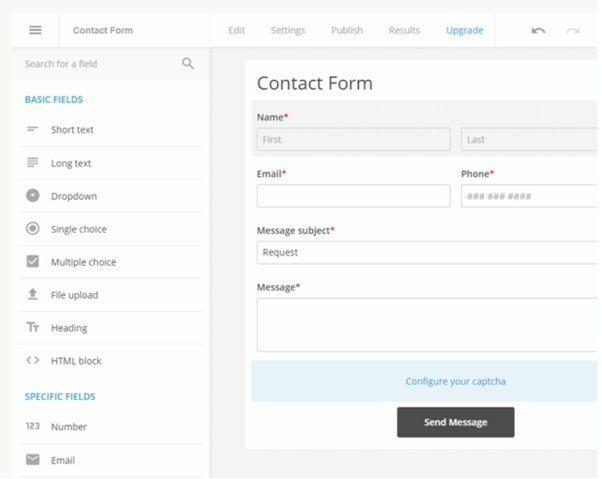icon: (180, 58, 201, 75), (23, 221, 44, 238), (24, 320, 43, 336), (26, 254, 42, 272), (23, 353, 42, 368), (24, 453, 43, 468), (26, 190, 43, 205), (566, 26, 587, 38), (23, 121, 39, 136), (25, 422, 44, 434), (26, 288, 41, 303), (28, 25, 46, 37), (27, 158, 42, 171), (531, 27, 547, 37)
input: (258, 241, 599, 265), (258, 128, 451, 152), (258, 185, 451, 209), (397, 408, 516, 438), (462, 129, 602, 152), (463, 186, 602, 208)
label: (256, 74, 377, 95), (405, 372, 511, 392), (24, 56, 106, 72), (24, 93, 88, 109), (256, 226, 341, 238), (73, 24, 136, 39), (23, 391, 99, 403), (52, 255, 118, 268), (49, 354, 106, 368), (51, 223, 108, 236), (51, 158, 97, 172), (255, 282, 303, 294), (53, 290, 101, 302), (52, 191, 100, 203), (51, 124, 96, 136), (53, 323, 90, 337), (256, 112, 293, 125), (445, 26, 487, 37), (271, 26, 309, 38), (387, 24, 422, 37), (332, 25, 364, 38), (256, 169, 289, 181), (49, 424, 92, 432), (52, 456, 77, 468), (225, 24, 246, 37)
